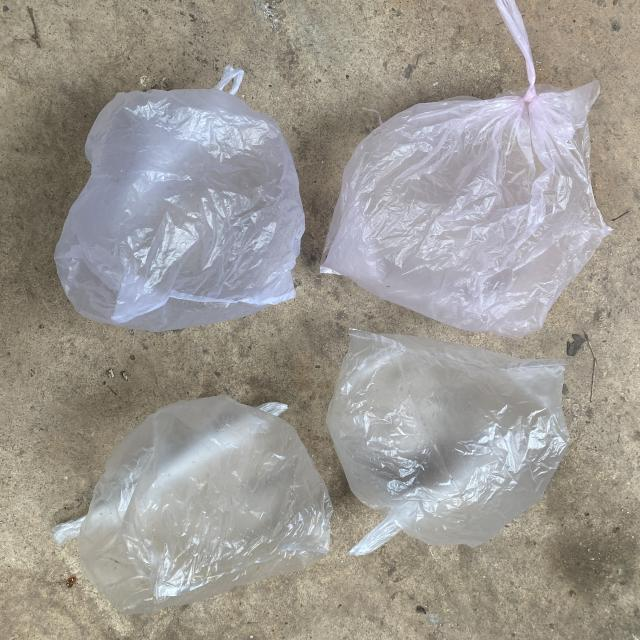Single-layer Plastic: (320, 0, 610, 338), (55, 66, 305, 331), (54, 396, 332, 614), (326, 330, 569, 556)
